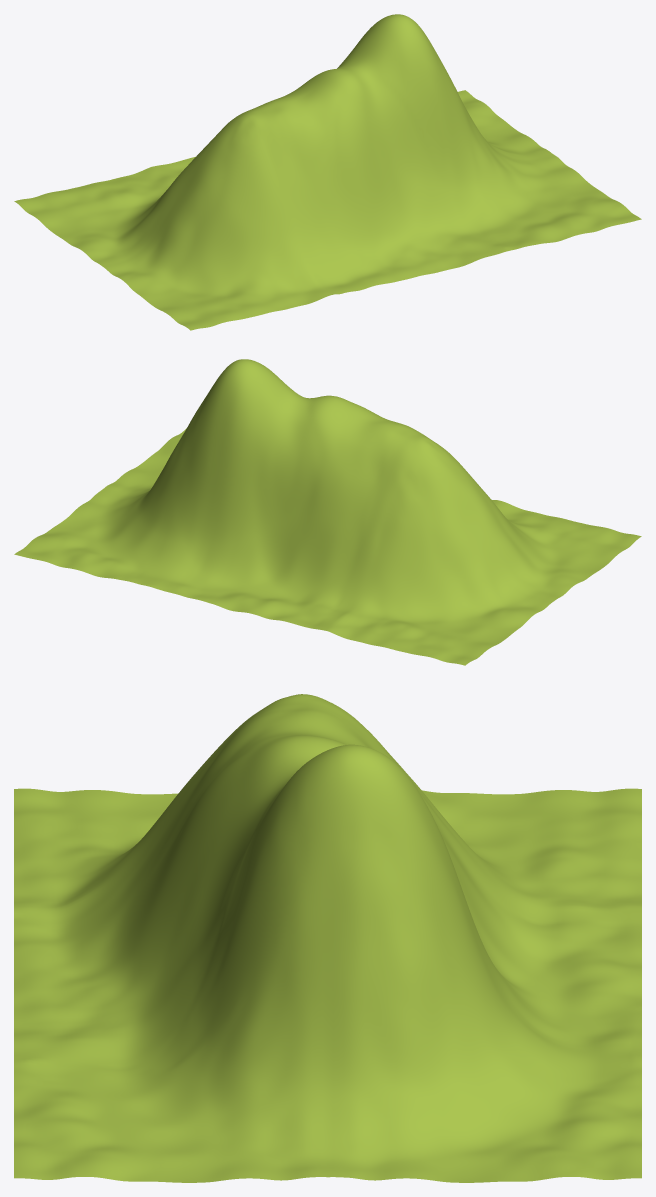
The model's file is coline3.fbx.
3 views of the same model, one above another, from view 1: azimuth 30°, elevation 25°; view 2: azimuth 150°, elevation 25°; view 3: azimuth 270°, elevation 25° (orthographic). The views are drawn at different scales.
Parts seen in each view (by area): view 1: coline3; view 2: coline3; view 3: coline3.
Part boxes in pixels (x1,y1,x2,y2): coline3: (14, 14, 641, 330); coline3: (14, 359, 641, 665); coline3: (14, 694, 641, 1182).
Size of the model in its own units: 2124 by 784 by 1441.
